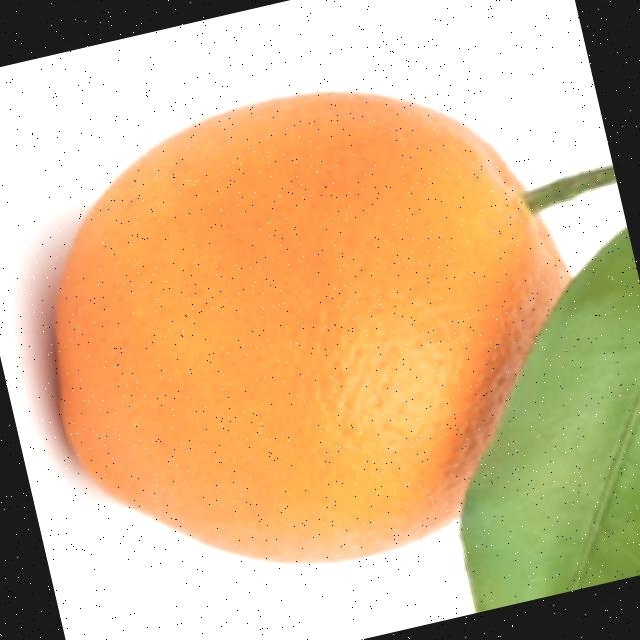orange: (0, 36, 630, 618)
